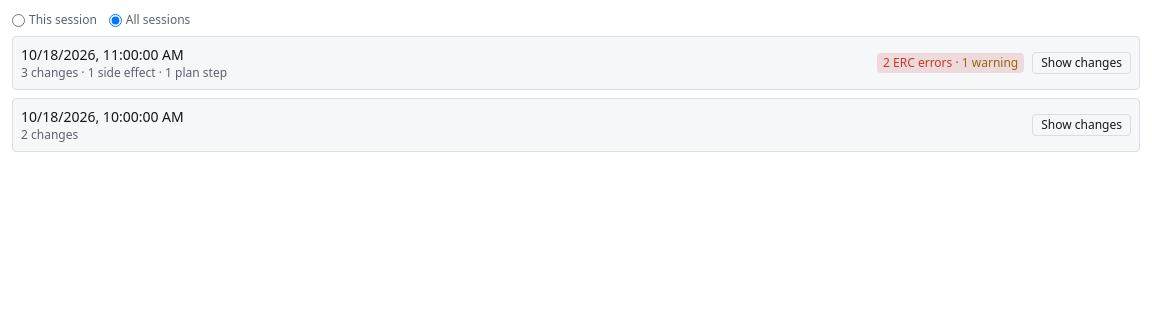
Test case: ChangesPanel › expanding a run groups entries by step and marks side effects
Click the button "Show changes" in the row of "· 1 plan step" at point(1082, 63), box [1032, 52, 1131, 74]
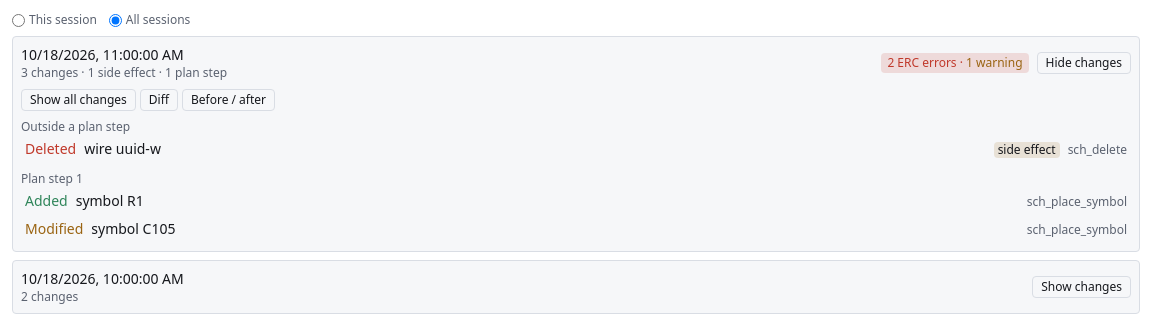
Result: the button "Added symbol R1 sch_place_symbol" is shown at [21, 187, 1131, 215]
Result: the button "Modified symbol C105 sch_place_symbol" is shown at [21, 215, 1131, 243]
Result: the button "Deleted wire uuid-w side effect sch_delete" is shown at [21, 135, 1131, 163]
